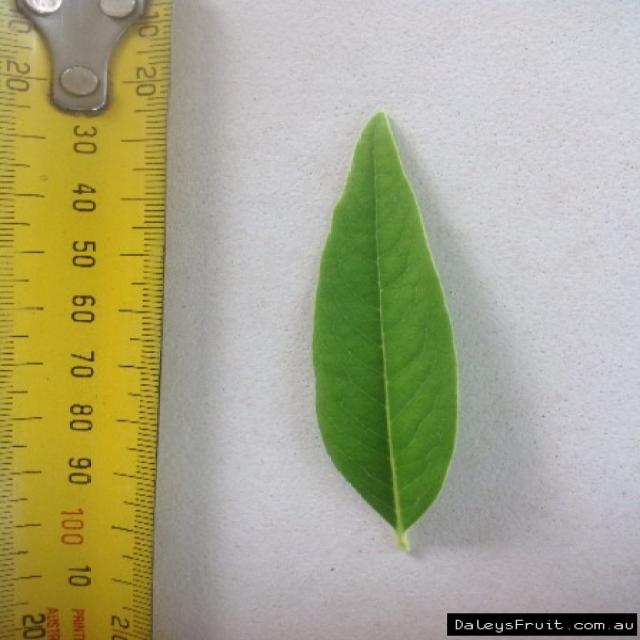Medicinal-Sandalwood: (305, 111, 468, 557)
